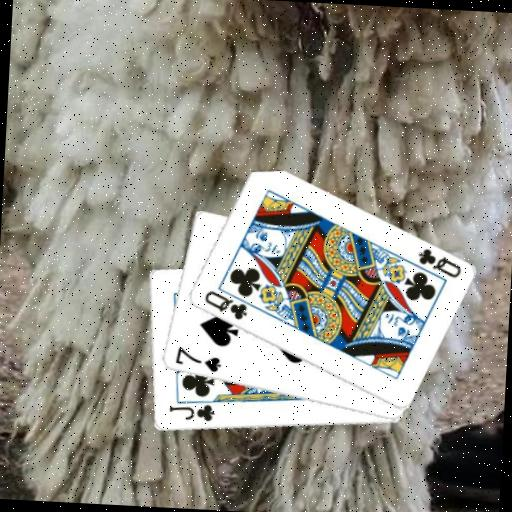7S: (171, 344, 223, 375)
JC: (165, 400, 217, 425)
QC: (200, 288, 250, 323), (414, 245, 464, 280)
